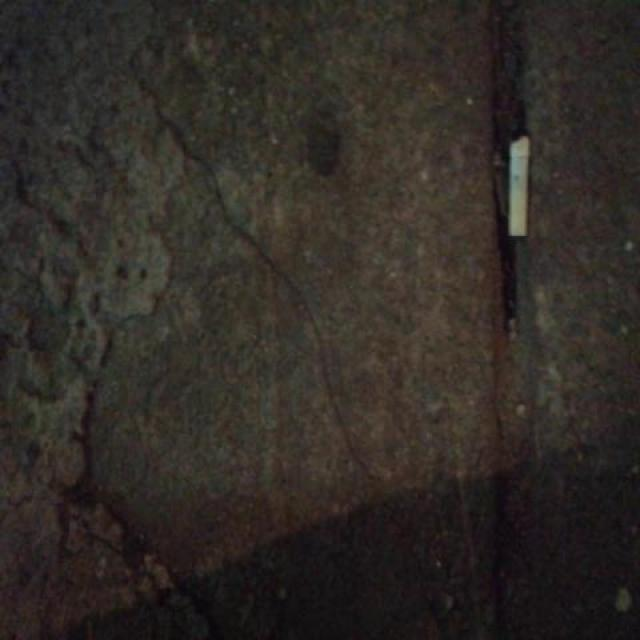non-organic waste: (504, 130, 533, 246)
